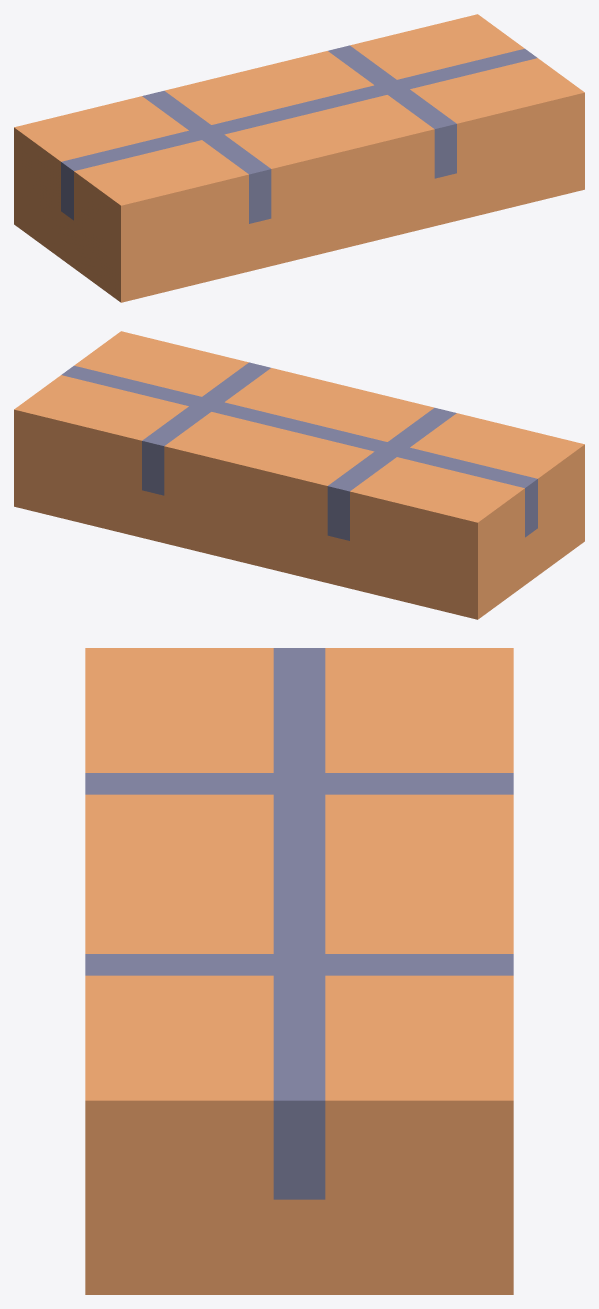
The picture shows the model from 3 angles, top to bottom: view 1: azimuth 30°, elevation 25°; view 2: azimuth 150°, elevation 25°; view 3: azimuth 270°, elevation 25°; orthographic projection. The views are drawn at different scales.
Parts seen in each view (by area): view 1: Box5x2, Box5x2.lid.002, Box5x2.lid.001; view 2: Box5x2, Box5x2.lid.001, Box5x2.lid.002; view 3: Box5x2.lid.001, Box5x2.lid.002, Box5x2.
Boxes of the visible parts, bbox=[...] form: Box5x2: bbox=[14, 94, 584, 302]; Box5x2.lid.002: bbox=[67, 53, 584, 207]; Box5x2.lid.001: bbox=[14, 14, 530, 168]; Box5x2: bbox=[14, 411, 584, 619]; Box5x2.lid.001: bbox=[14, 370, 531, 524]; Box5x2.lid.002: bbox=[68, 331, 584, 485]; Box5x2.lid.001: bbox=[299, 648, 513, 1104]; Box5x2.lid.002: bbox=[85, 648, 299, 1104]; Box5x2: bbox=[85, 1104, 513, 1294].
Bounding box in the file's own units: 500 × 100 × 200.
